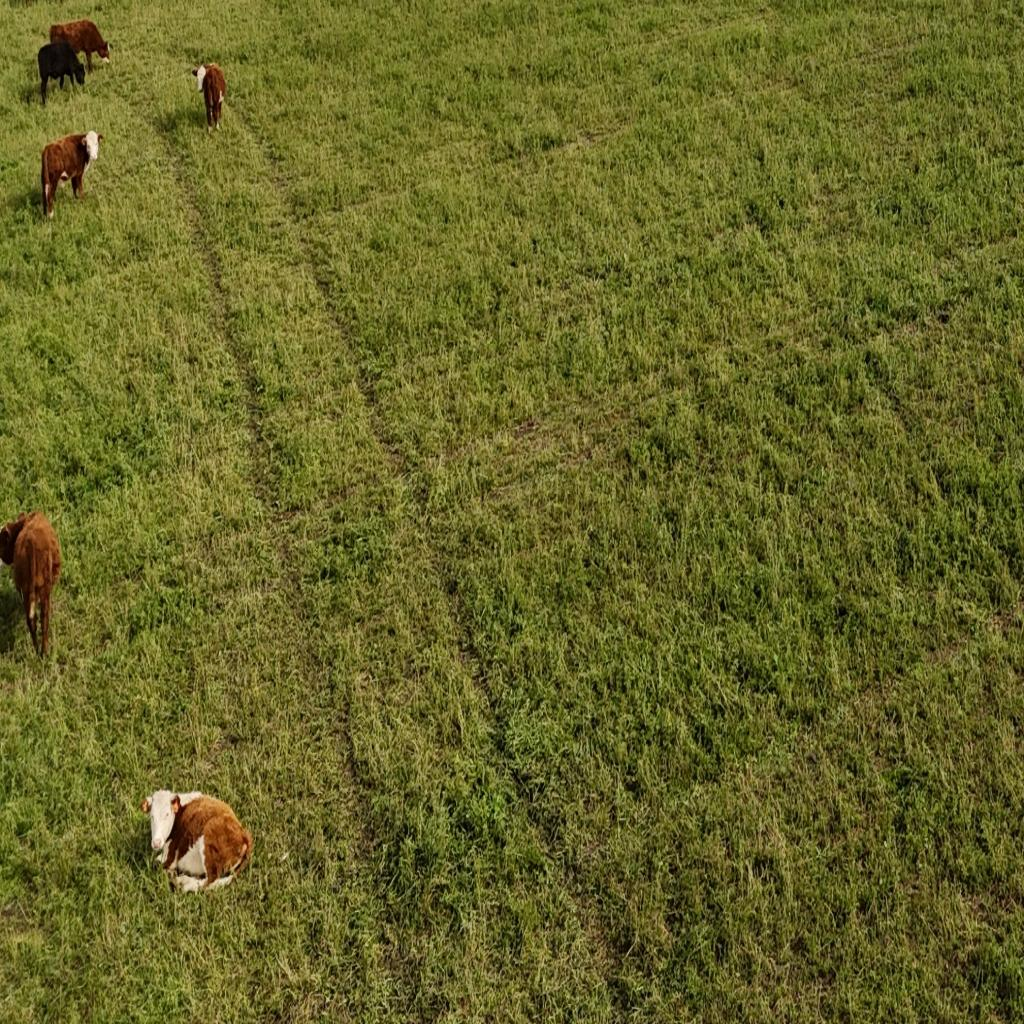cow: (143, 785, 255, 893), (0, 510, 61, 660), (40, 129, 104, 221), (48, 22, 111, 66), (36, 39, 87, 92), (192, 62, 226, 132)
